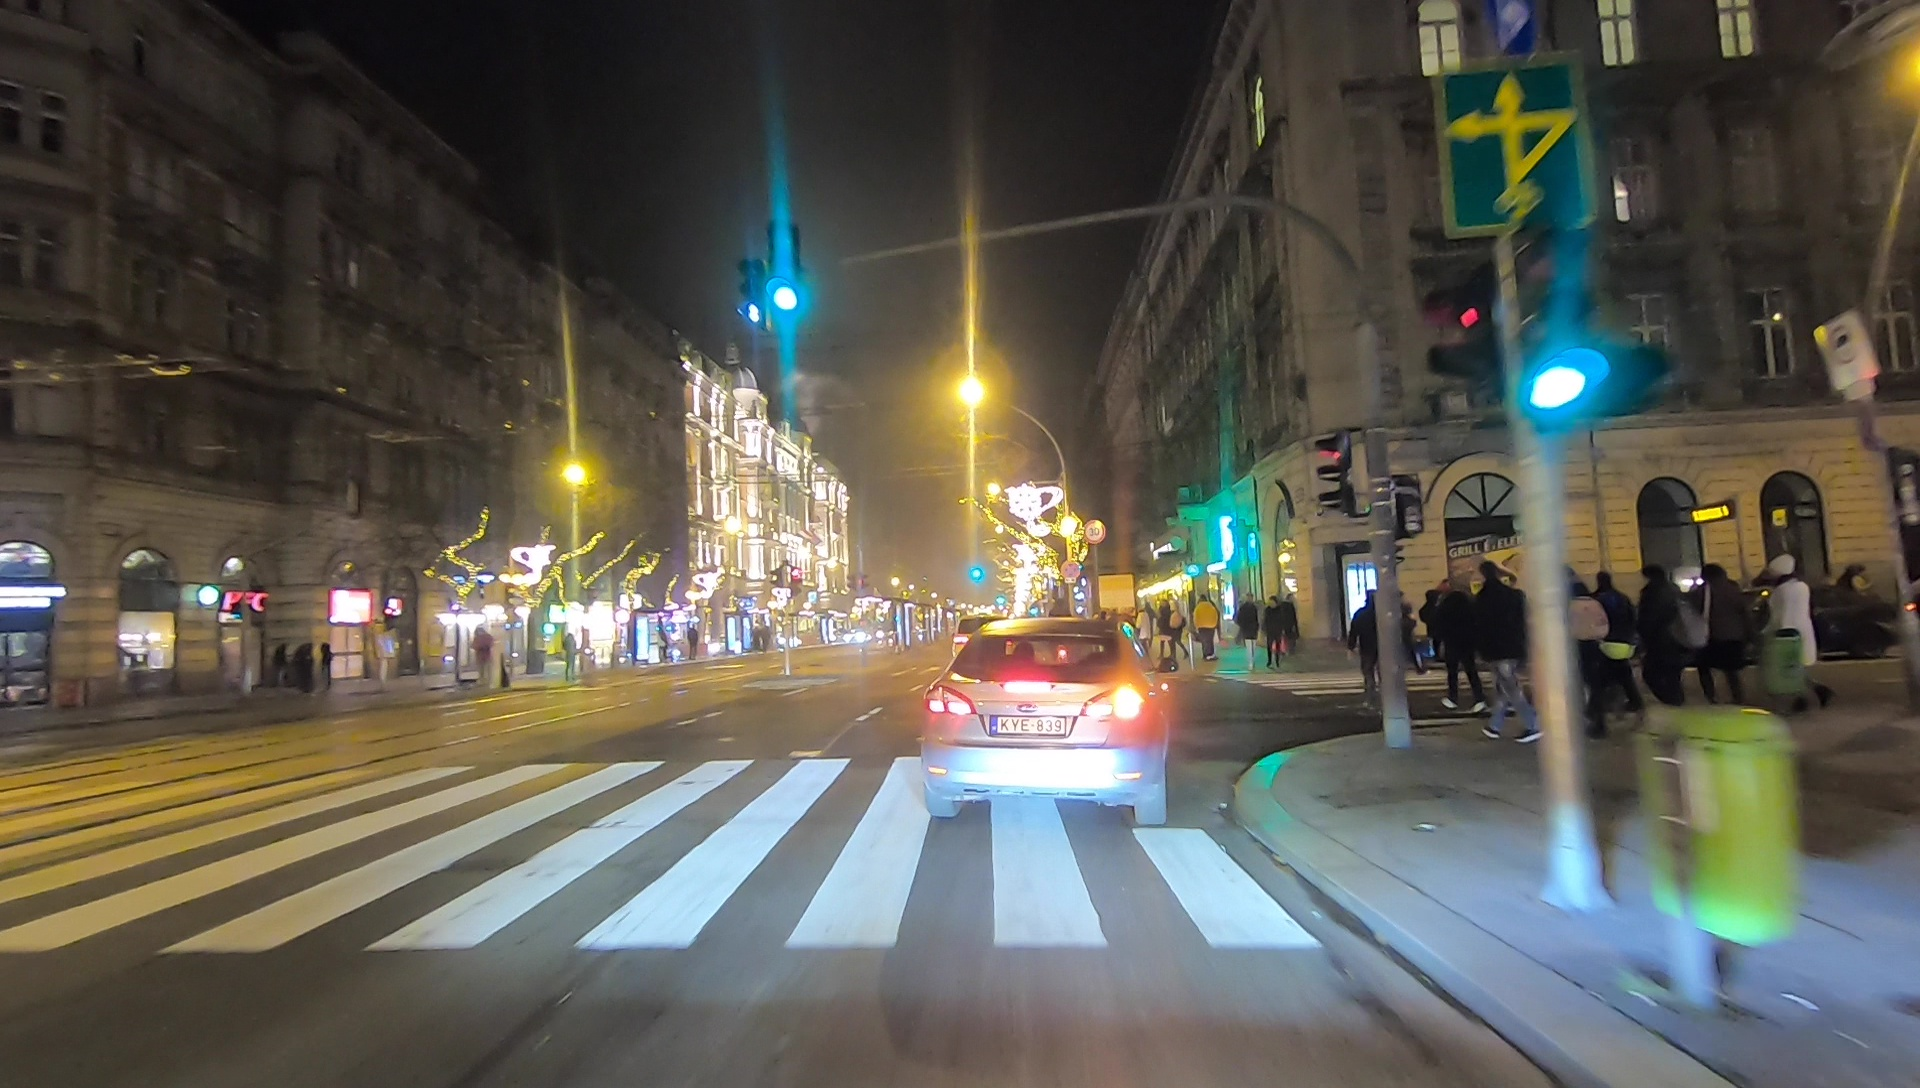person: (1473, 559, 1548, 744), (1763, 553, 1830, 710), (1691, 564, 1758, 717), (1585, 568, 1640, 733), (1637, 565, 1692, 718), (1430, 586, 1491, 715), (1345, 594, 1407, 717), (1195, 596, 1221, 661), (1234, 594, 1258, 653), (471, 629, 494, 686), (1264, 598, 1283, 668), (292, 640, 311, 691), (563, 632, 580, 680), (318, 644, 335, 680), (271, 641, 285, 687), (687, 626, 703, 652)
